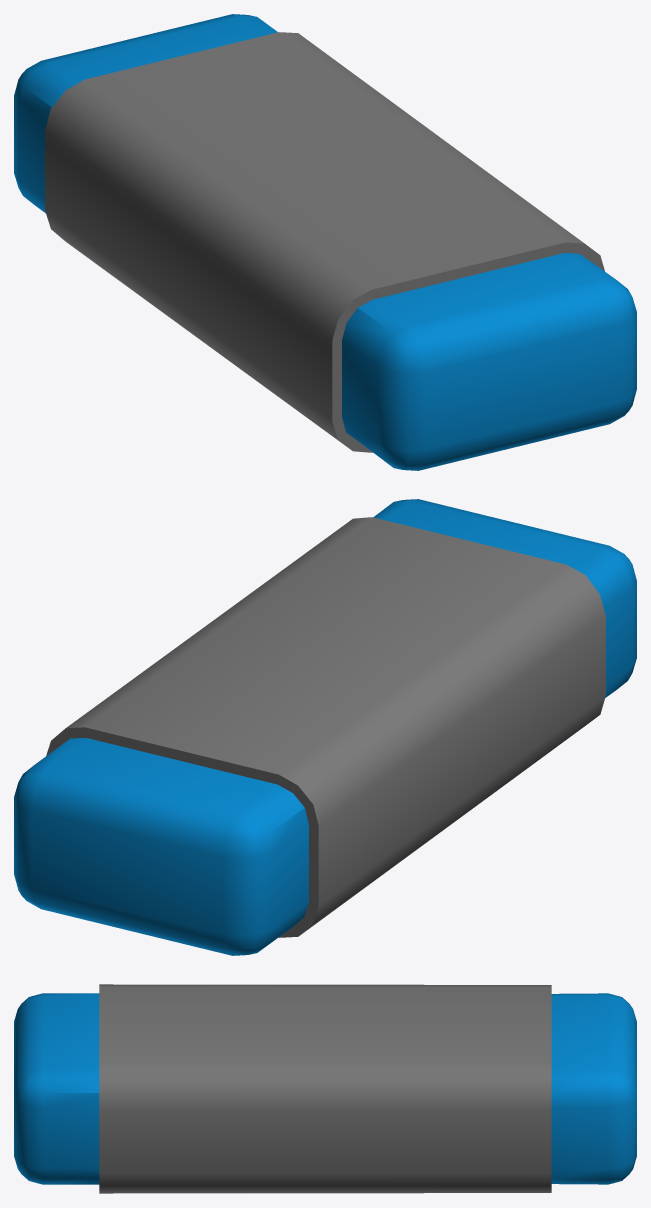
Rendered from Eraser01.fbx.
3 views of the same model, one above another, from view 1: azimuth 30°, elevation 25°; view 2: azimuth 150°, elevation 25°; view 3: azimuth 270°, elevation 25° (orthographic). The views are drawn at different scales.
Visible parts, largest first — view 1: Eraser01; view 2: Eraser01; view 3: Eraser01.
Boxes of the visible parts, x1,y1,x2,y2 form: Eraser01: (14,14,636,470); Eraser01: (14,499,636,955); Eraser01: (14,984,636,1193).
Bounding box in the file's own units: 0.0218 × 0.0546 × 0.0124.
